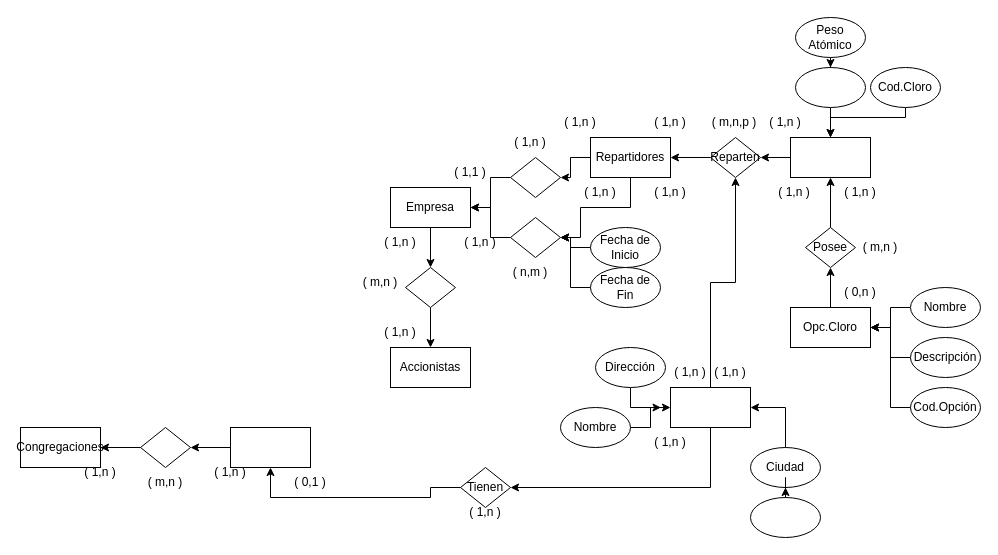
The diagram is 998 pixels wide and 555 high, and some of its shapes have lost their labels. The shapes that lost their labels are listed below. From the top down, each one's centre as x and y in pixels, then its label:
At point 830,87: "Nº. Atómico".
At point 535,177: "Trabajan".
At point 830,157: "Cloro".
At point 535,237: "Es cedido".
At point 430,287: "Forman".
At point 710,407: "Piscina".
At point 165,447: "Asociado".
At point 270,447: "Propietarios".
At point 785,517: "Teléfono".
